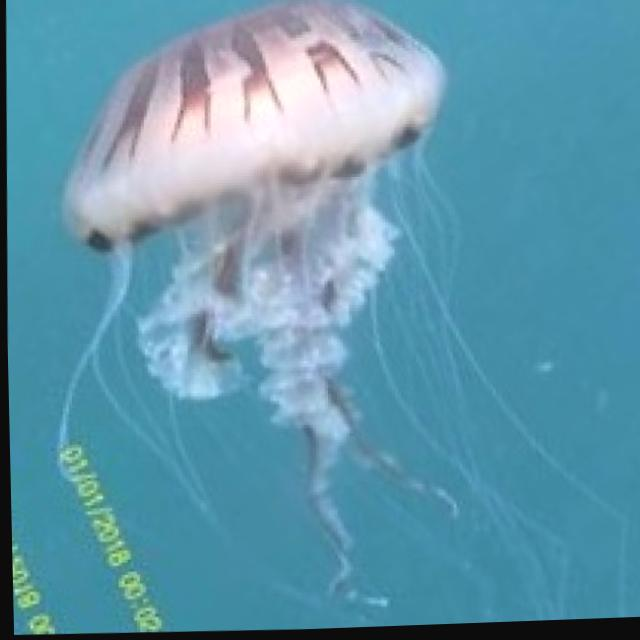Box-jellyfish: (37, 0, 635, 639)
